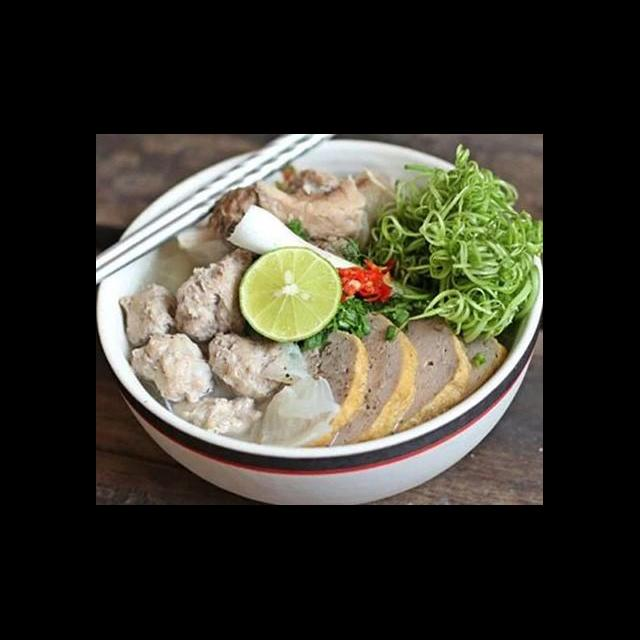thit heo: (202, 165, 404, 266)
vien moc: (170, 242, 260, 344), (128, 326, 218, 406), (202, 330, 288, 406), (116, 280, 180, 350)
